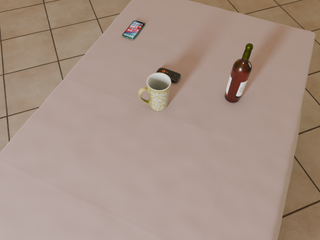bottle: (225, 43, 253, 103)
cup: (138, 72, 171, 111)
mouse: (156, 68, 181, 83)
phone: (122, 21, 145, 40)
